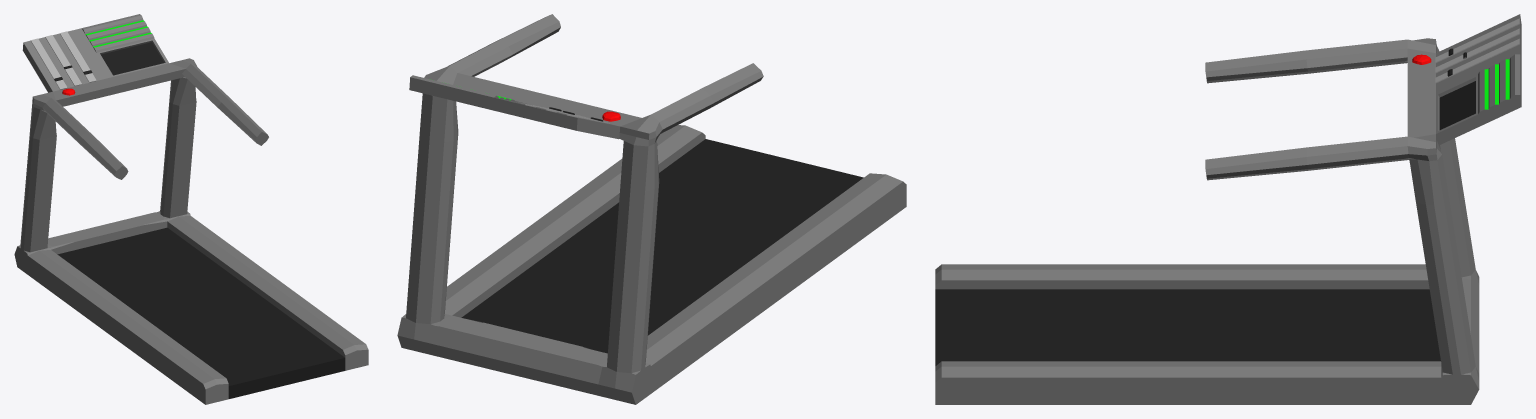
File: Bedroom_Prop_Treadmill.fbx
3 renders of one model, left to right at view 1: azimuth 30°, elevation 25°; view 2: azimuth 150°, elevation 25°; view 3: azimuth 270°, elevation 25°, orthographic. The views are drawn at different scales.
Visible parts, largest first — view 1: Cube; view 2: Cube; view 3: Cube.
Part boxes in pixels (left/top/right/bottom): Cube: left=14, top=14, right=368, bottom=404; Cube: left=397, top=14, right=906, bottom=404; Cube: left=935, top=14, right=1521, bottom=404.
Size of the model in its own units: 400 by 486 by 876.
